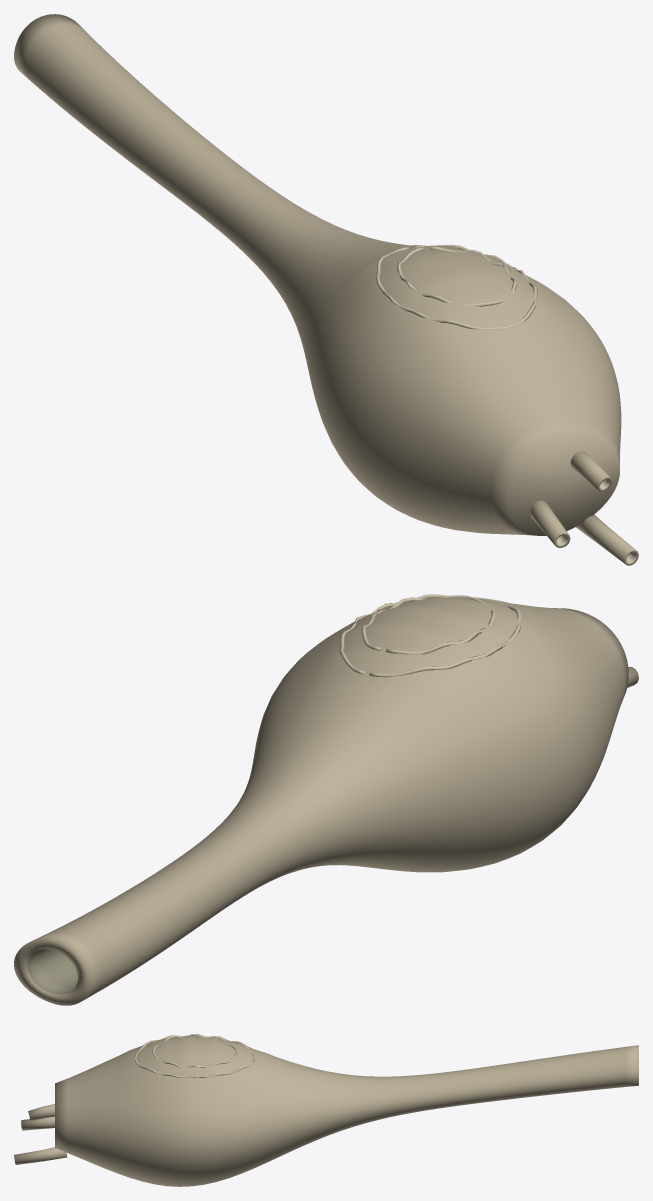
Rendered from clavagella.glb.
The picture shows the model from 3 angles, top to bottom: view 1: azimuth 30°, elevation 25°; view 2: azimuth 150°, elevation 25°; view 3: azimuth 270°, elevation 25°; orthographic projection. The views are drawn at different scales.
Parts seen in each view (by area): view 1: continuous-preserved-adventitious-calcareous-tube-with-incor, few-irregular-calcareous-wateringpot-mouths-not-soft-siphons, shallow-incorporated-valve-margin-and-original-growth-relief; view 2: continuous-preserved-adventitious-calcareous-tube-with-incor, shallow-incorporated-valve-margin-and-original-growth-relief; view 3: continuous-preserved-adventitious-calcareous-tube-with-incor, few-irregular-calcareous-wateringpot-mouths-not-soft-siphons, shallow-incorporated-valve-margin-and-original-growth-relief.
Boxes of the visible parts, box(x1,y1,x2,y2) form: continuous-preserved-adventitious-calcareous-tube-with-incor: box(14, 14, 621, 535); few-irregular-calcareous-wateringpot-mouths-not-soft-siphons: box(530, 451, 638, 565); shallow-incorporated-valve-margin-and-original-growth-relief: box(376, 244, 537, 329); continuous-preserved-adventitious-calcareous-tube-with-incor: box(14, 596, 628, 1005); shallow-incorporated-valve-margin-and-original-growth-relief: box(339, 594, 521, 677); continuous-preserved-adventitious-calcareous-tube-with-incor: box(55, 1035, 638, 1186); few-irregular-calcareous-wateringpot-mouths-not-soft-siphons: box(14, 1104, 66, 1164); shallow-incorporated-valve-margin-and-original-growth-relief: box(134, 1034, 255, 1078).
Bounding box in the file's own units: 0.0445 × 0.0379 × 0.16.
